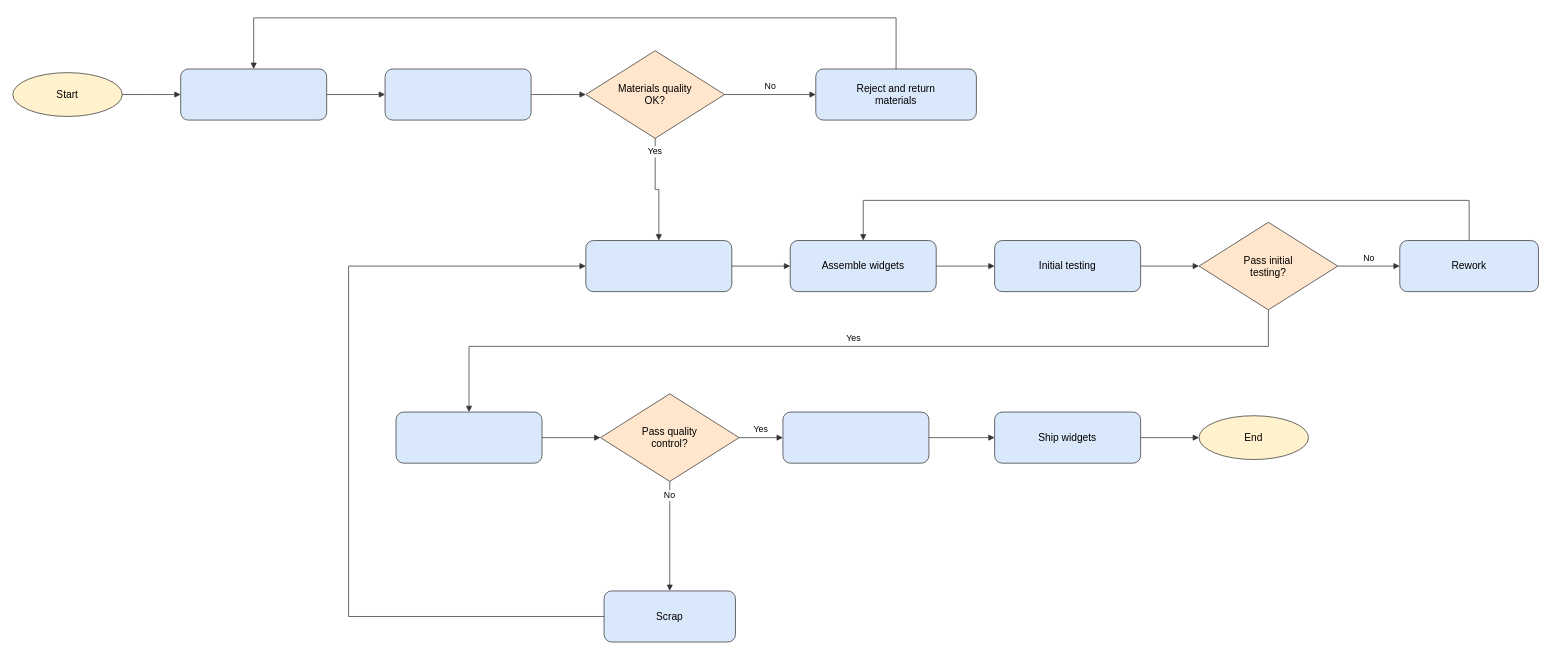
Some shapes in this 1551 by 655 pixel diagram are drawn without their labels. Here are the shapes that lost their labels. From the top down, the centre of each, then its label:
At point 253,94: "Process raw materials".
At point 457,94: "Inspect raw materials".
At point 658,266: "Begin production".
At point 468,437: "Quality control".
At point 855,437: "Package widgets".
